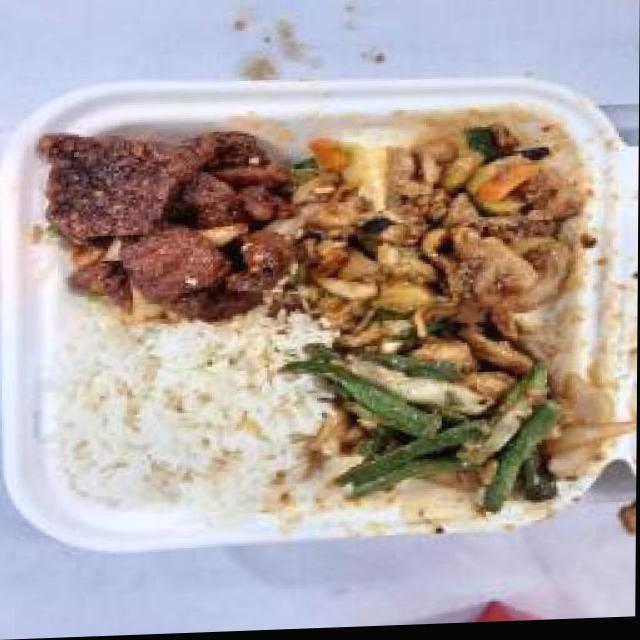Beijing Beef: (41, 119, 307, 327)
Kung Pao Chicken: (286, 113, 590, 342)
String Bean Chicken Breast: (320, 311, 576, 519)
White Steamed Rice: (50, 314, 324, 526)
